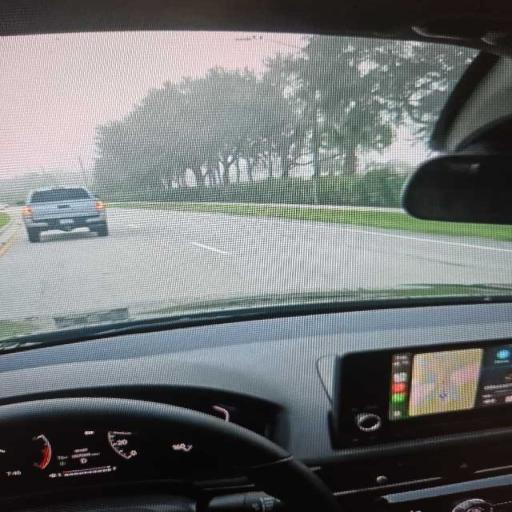car: (0, 0, 511, 511), (23, 187, 107, 241)
lane: (0, 209, 511, 318)
